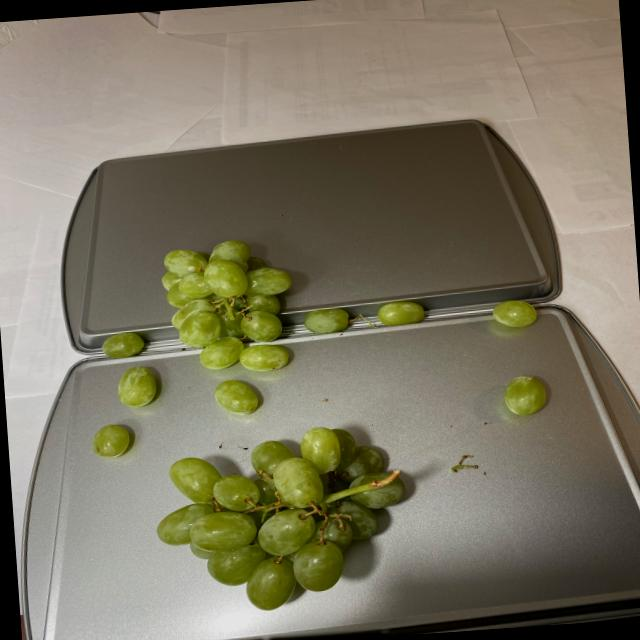grapes: (88, 232, 408, 616), (488, 296, 548, 416)
